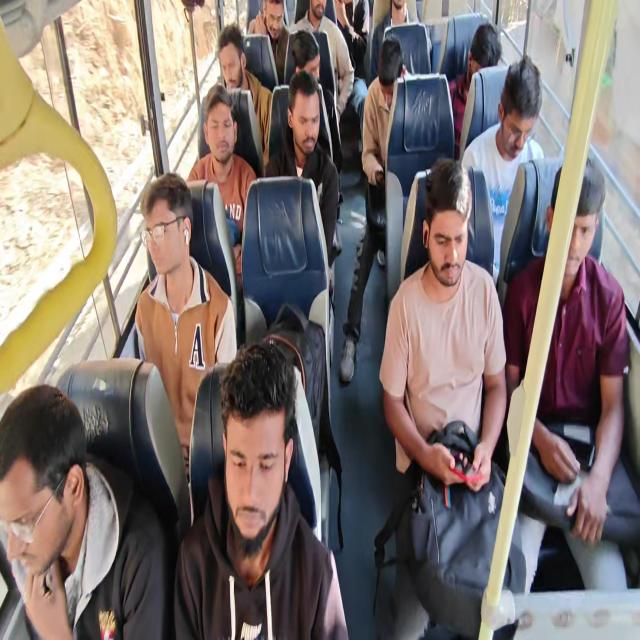person: (0, 412, 70, 586), (220, 383, 282, 537), (417, 183, 474, 286), (556, 183, 598, 284), (143, 185, 190, 268), (503, 78, 535, 162), (288, 42, 330, 99), (201, 94, 237, 158), (284, 86, 319, 150), (466, 31, 504, 84), (215, 36, 248, 88), (373, 50, 399, 109), (263, 2, 284, 44), (304, 0, 328, 28), (388, 0, 406, 18)
